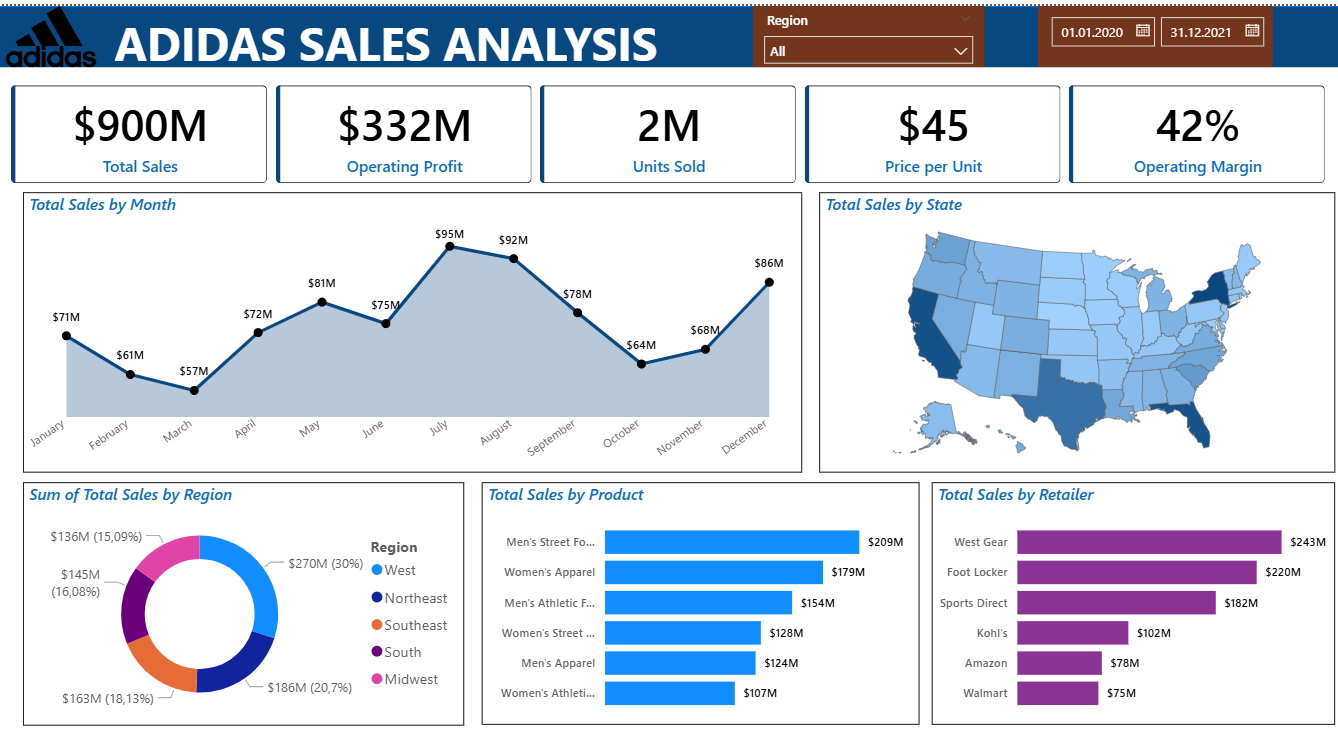

This screenshot's page, from the dashboard's own definition file:
{"tool":"powerbi","page":{"name":"Page 1","canvas":[1280,720],"ordinal":0},"visuals":[{"type":"shape","box":[0,0,1257,69.8],"z":0},{"type":"textbox","box":[108.1,0,598.8,69.8],"z":1000},{"type":"cardVisual","fields":{"Data":["Sum(Data Sales Adidas.Total Sales)","Sum(Data Sales Adidas.Operating Profit)","Sum(Data Sales Adidas.Units Sold)","Avg(Data Sales Adidas.Price per Unit)","Avg(Data Sales Adidas.Operating Margin)"]},"box":[0,57,1257,125.6],"z":2000},{"type":"areaChart","title":" Total Sales by Month","fields":{"Category":["Data Sales Adidas.Invoice Date.Variation.Date Hierarchy.Month"],"Y":["Sum(Data Sales Adidas.Total Sales)"]},"box":[27.9,173.3,724.4,260.5],"z":3000},{"type":"shapeMap","title":" Total Sales by State","fields":{"Category":["Data Sales Adidas.State"],"Value":["Sum(Data Sales Adidas.Total Sales)"]},"box":[768.6,173.3,480.2,260.5],"z":4000},{"type":"donutChart","fields":{"Category":["Data Sales Adidas.Region"],"Y":["Sum(Data Sales Adidas.Total Sales)"]},"box":[27.9,443,410.5,226],"z":5000},{"type":"barChart","title":" Total Sales by Product","fields":{"Category":["Data Sales Adidas.Product"],"Y":["Sum(Data Sales Adidas.Total Sales)"]},"box":[454.7,443,407,225.6],"z":6000},{"type":"barChart","title":" Total Sales by Retailer","fields":{"Y":["Sum(Data Sales Adidas.Total Sales)"],"Category":["Data Sales Adidas.Retailer"]},"box":[873.3,443,375.6,225.6],"z":7000},{"type":"slicer","fields":{"Values":["Data Sales Adidas.Region"]},"box":[707,0,215.1,57],"z":8000},{"type":"slicer","fields":{"Values":["Data Sales Adidas.Invoice Date"]},"box":[972.1,0,218.6,57],"z":9000},{"type":"image","box":[0,0,108.1,57],"z":10000}]}

Visuals, with their boxes in screenshot pixels (x1, y1, x2, y2), scaled from the page's 1280x720 canvas onto the 1338x731 screenshot:
shape: x1=0, y1=0, x2=1314, y2=71
textbox: x1=113, y1=0, x2=739, y2=71
cardVisual - Sum(Data Sales Adidas.Total Sales) x Sum(Data Sales Adidas.Operating Profit): x1=0, y1=58, x2=1314, y2=185
" Total Sales by Month" areaChart: x1=29, y1=176, x2=786, y2=440
" Total Sales by State" shapeMap: x1=803, y1=176, x2=1305, y2=440
donutChart - Data Sales Adidas.Region x Sum(Data Sales Adidas.Total Sales): x1=29, y1=450, x2=458, y2=679
" Total Sales by Product" barChart: x1=475, y1=450, x2=901, y2=679
" Total Sales by Retailer" barChart: x1=913, y1=450, x2=1305, y2=679
slicer - Data Sales Adidas.Region: x1=739, y1=0, x2=964, y2=58
slicer - Data Sales Adidas.Invoice Date: x1=1016, y1=0, x2=1245, y2=58
image: x1=0, y1=0, x2=113, y2=58
